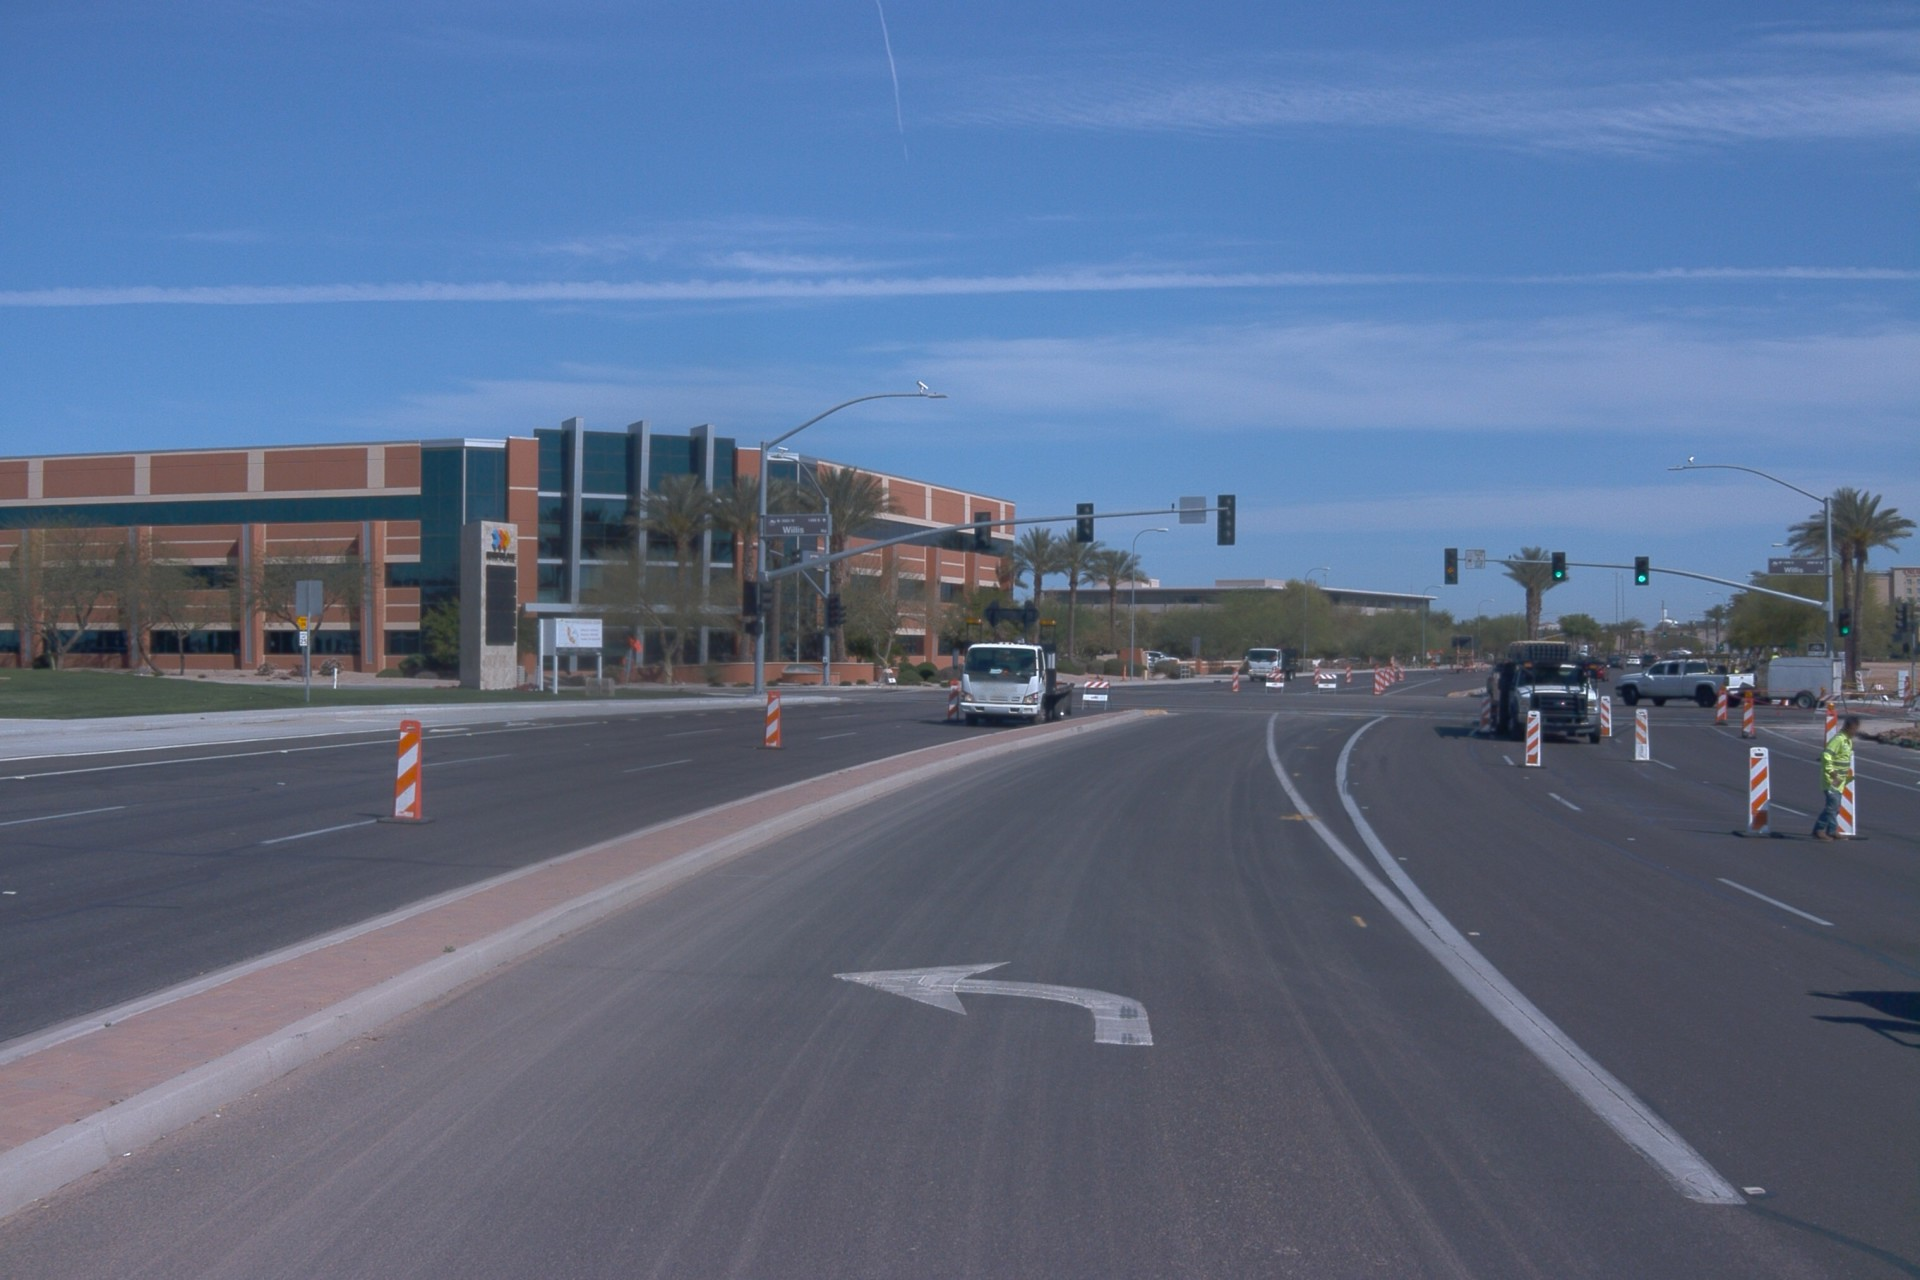TYPE_PEDESTRIAN: (1808, 714, 1862, 844)
TYPE_VEHICLE: (1486, 637, 1609, 746), (952, 629, 1079, 725), (1614, 649, 1757, 719), (1763, 645, 1852, 713), (1245, 646, 1304, 685), (1142, 648, 1180, 669), (1587, 658, 1613, 684), (1638, 650, 1659, 671), (1484, 673, 1497, 698), (1606, 655, 1624, 673), (1576, 641, 1590, 660), (1625, 654, 1644, 668)
